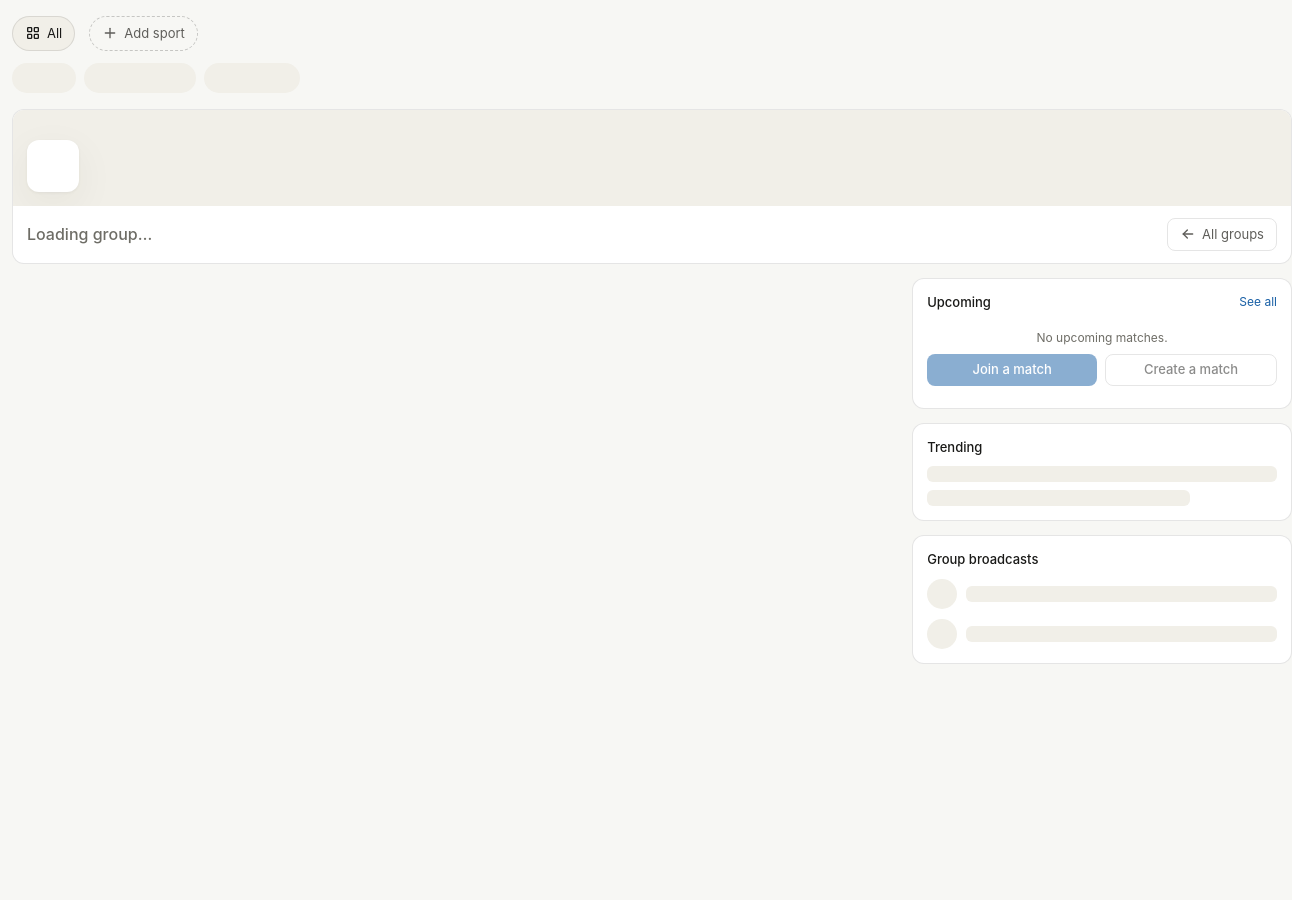
Test: GroupsPage › GRP-11: pending group selection › lets the user leave the pending selection via "All groups"
This screenshot has width=1292, height=900.
Click the button "All groups" at x=1222, y=234, box 1167,218 -> 1277,251
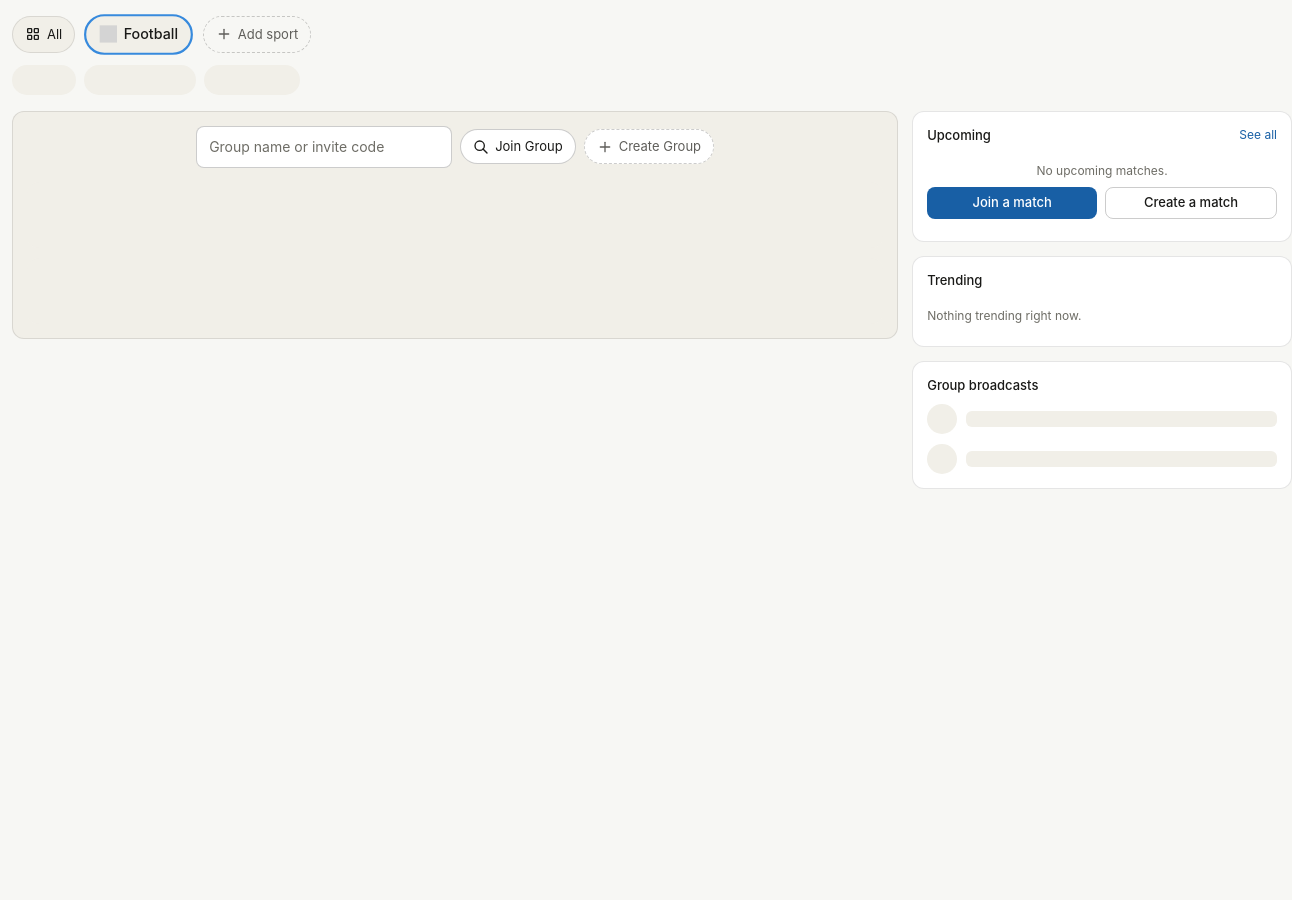
Result: the field labelled "Group name or invite code" is shown at 196,126 -> 452,168
Result: the element with test id "group-cover-banner-placeholder" is gone
